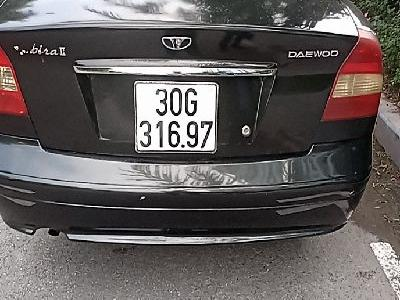lisence: (132, 79, 220, 155)
